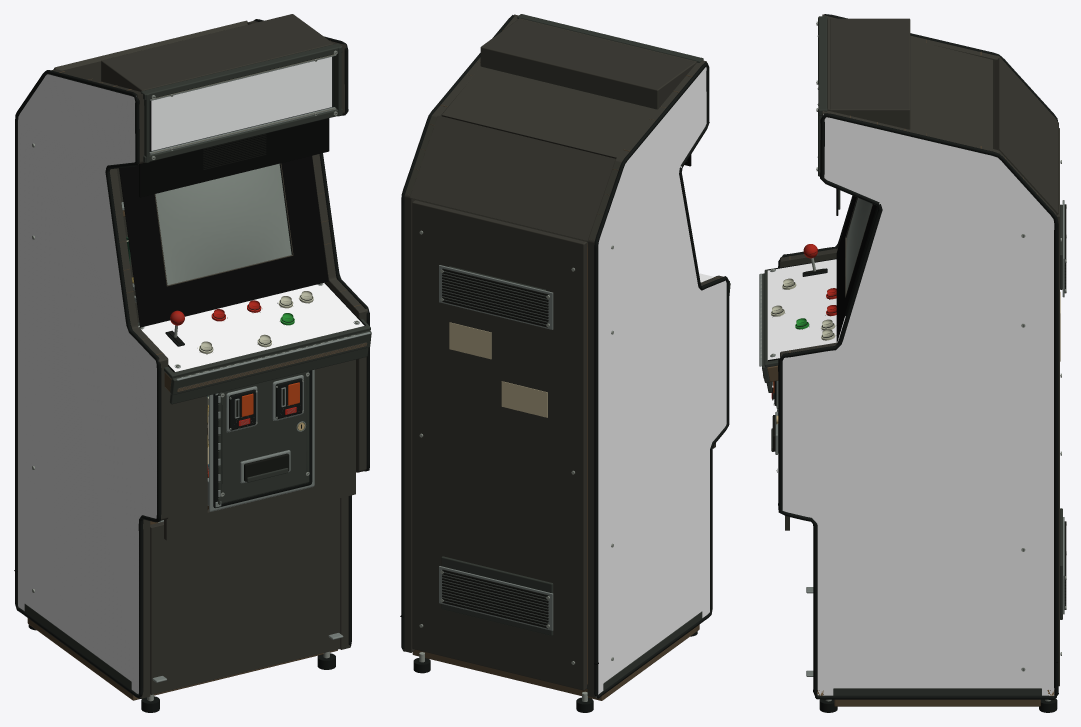
The model's file is cabinet.glb.
The picture shows the model from 3 angles, left to right: view 1: azimuth 30°, elevation 25°; view 2: azimuth 150°, elevation 25°; view 3: azimuth 270°, elevation 25°; orthographic projection. The views are drawn at different scales.
Visible parts, largest first — view 1: left_panel_print, chassis, marquee_mount, monitor_bezel, coin_fascia, coin_hinge, crt_screen, left_panel, marquee_print, control_print, controls_hinge, speaker_cover (+3 smaller); view 2: rear_service, left_panel_print, back_panel, chassis, marquee_mount, left_panel, rear_vents, right_panel, inspection_label, back_label; view 3: right_panel_print, chassis, marquee_mount, right_panel, back_panel, control_print, left_panel, controls_hinge, monitor_bezel, rear_service, crt_screen, rear_vents (+1 smaller).
Part boxes in pixels (x1,y1,x2,y2): left_panel_print: (18,74,156,697); chassis: (24,44,343,712); marquee_mount: (101,14,342,162); monitor_bezel: (119,156,328,327); coin_fascia: (164,359,355,540); coin_hinge: (209,369,314,511); crt_screen: (155,163,291,284); left_panel: (14,69,168,698); marquee_print: (151,57,331,150); control_print: (138,283,364,371); controls_hinge: (138,282,371,404); speaker_cover: (139,118,329,197); rear_service: (412,200,587,690); left_panel_print: (598,67,726,694); back_panel: (410,115,615,242); chassis: (412,18,702,712); marquee_mount: (480,14,703,109); left_panel: (587,60,729,698); rear_vents: (439,265,553,630); right_panel: (400,14,518,652); inspection_label: (501,381,547,417); back_label: (449,322,491,359); right_panel_print: (782,114,1054,695); chassis: (806,18,1057,712); marquee_mount: (816,16,910,176); right_panel: (778,111,1058,699); back_panel: (994,58,1058,214); control_print: (767,259,845,359); left_panel: (778,14,1057,267); controls_hinge: (759,258,836,392); monitor_bezel: (836,196,877,342); rear_service: (1057,128,1062,686); crt_screen: (846,198,872,291); rear_vents: (1062,200,1066,614).
Bounding box in the file's own units: 1.22 × 3.4 × 1.56.
